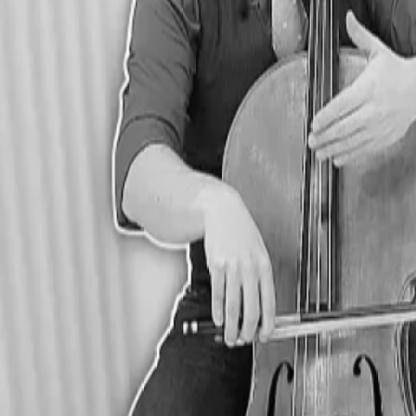good: (192, 210, 282, 353)
